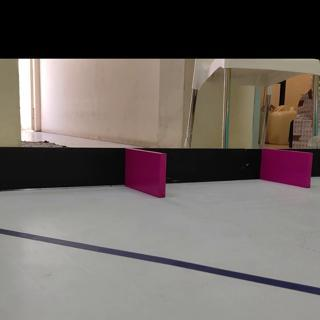xparking: (264, 151, 311, 187), (131, 154, 164, 194)
